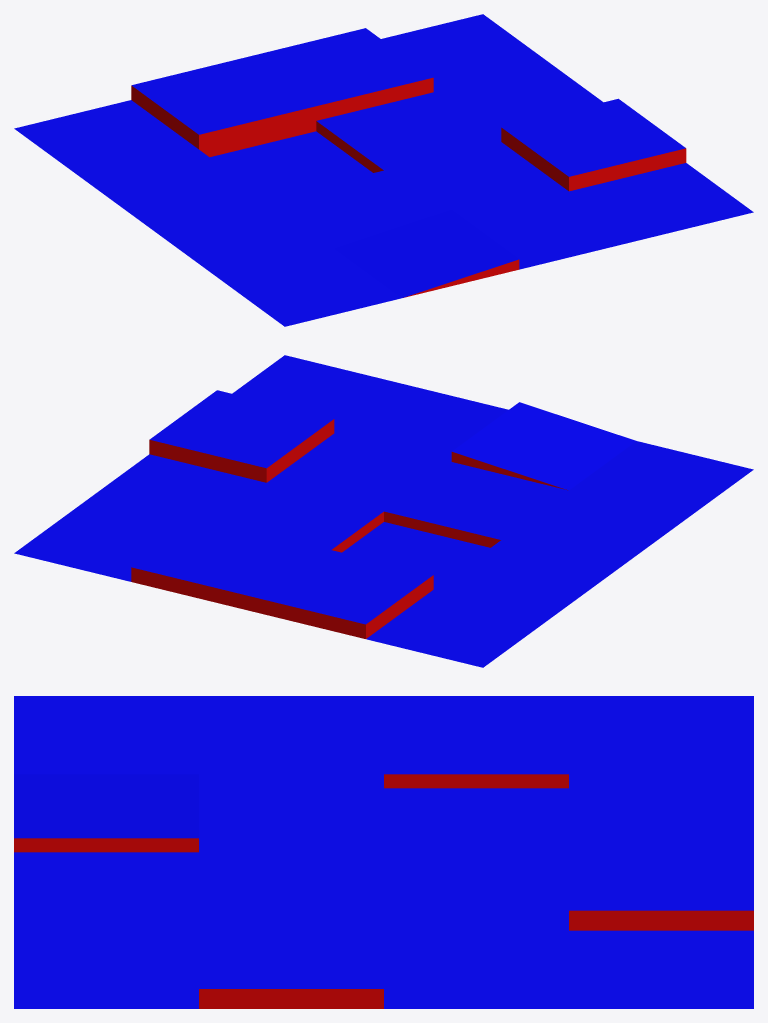
File: Block_Surface_Rough.fbx
3 views of the same model, one above another, from view 1: azimuth 30°, elevation 25°; view 2: azimuth 150°, elevation 25°; view 3: azimuth 270°, elevation 25° (orthographic). The views are drawn at different scales.
Parts seen in each view (by area): view 1: Cube.005; view 2: Cube.005; view 3: Cube.005.
Part boxes in pixels (x1,y1,x2,y2): Cube.005: [14, 14, 753, 326]; Cube.005: [14, 355, 753, 667]; Cube.005: [14, 696, 753, 1008].
Bounding box in the file's own units: 100 × 5.1 × 100.
